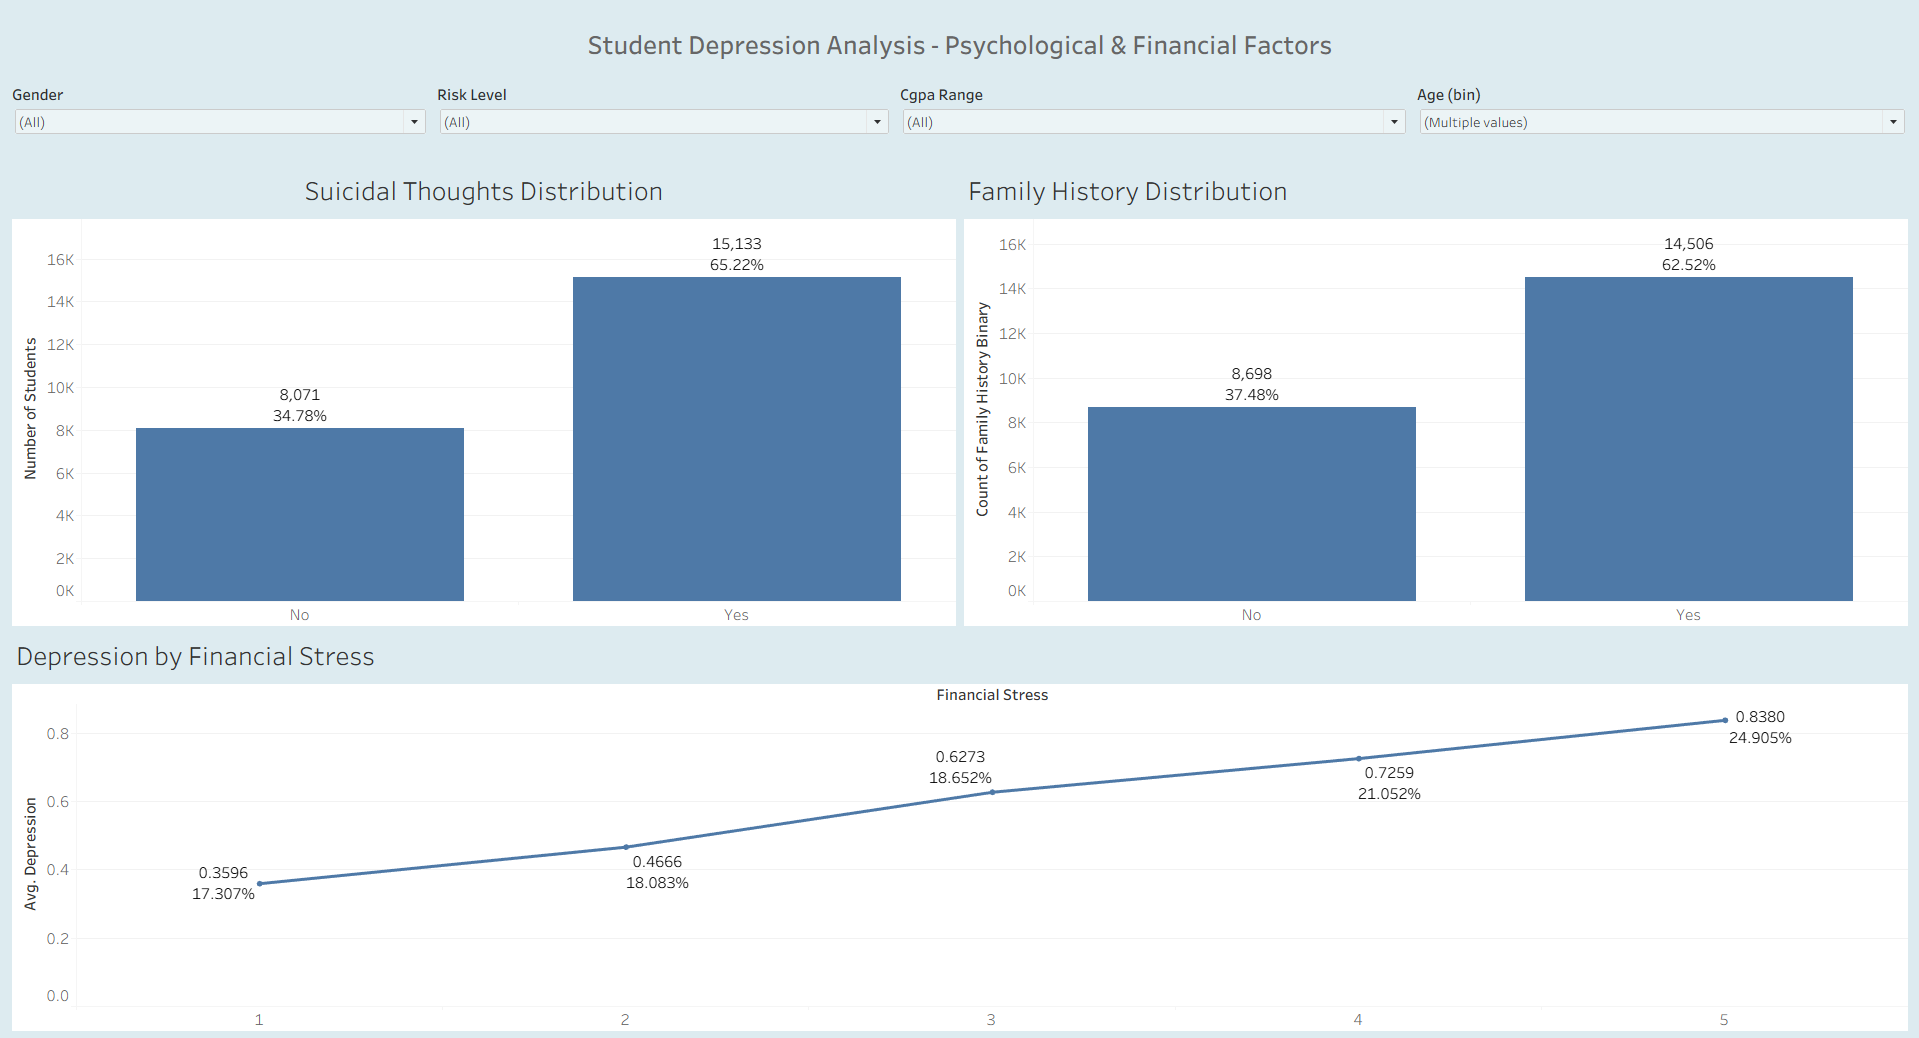

The page's visual inventory and layout, read from the dashboard file:
{"tool":"tableau","page":{"name":"Psychological & Financial Factors","canvas":[1000,1000],"units":"permille","ordinal":2},"visuals":[{"type":"text","box":[4.8,9.4,990.3,68.7]},{"type":"filter","title":"Depression by Financial Stress","param":"[federated.06oz1im1gha7c81ckzce51y9n668].[none:gender:nk]","box":[4.8,78,220.8,81.2]},{"type":"filter","title":"Depression by Financial Stress","param":"[federated.06oz1im1gha7c81ckzce51y9n668].[none:risk_level:nk]","box":[225.7,78,240.8,81.2]},{"type":"filter","title":"Depression by Financial Stress","param":"[federated.06oz1im1gha7c81ckzce51y9n668].[none:cgpa_range:nk]","box":[466.5,78,269.2,81.2]},{"type":"filter","title":"Depression by Financial Stress","param":"[federated.06oz1im1gha7c81ckzce51y9n668].[none:Age (bin):ok]","box":[735.6,78,259.5,81.2]},{"type":"worksheet","title":"Suicidal Thoughts Distribution","mark":"Bar","rows":["student_depression_analysis.csv_83CDBA091C41412094CF9C85B37B"],"cols":["suicidal_thoughts"],"box":[4.8,159.3,495.2,444.6]},{"type":"worksheet","title":"Family History Distribution","mark":"Automatic","rows":["family_history_binary"],"cols":["Calculation_0480808767025155"],"box":[500,159.3,495.2,444.6]},{"type":"worksheet","title":"Depression by Financial Stress","mark":"Line","rows":["depression"],"cols":["financial_stress"],"box":[4.8,603.9,990.3,386.7]}]}

Visuals, with their boxes on the dashboard's canvas, which has no fixed pixel size, in thousandths of its width and height (x1, y1, x2, y2). These are canvas units, not pixel positions in the 1919x1038 screenshot, which may show the page scaled, cropped or inside an application window:
text: [5, 9, 995, 78]
"Depression by Financial Stress" filter: [5, 78, 226, 159]
"Depression by Financial Stress" filter: [226, 78, 466, 159]
"Depression by Financial Stress" filter: [466, 78, 736, 159]
"Depression by Financial Stress" filter: [736, 78, 995, 159]
"Suicidal Thoughts Distribution" worksheet (Bar marks): [5, 159, 500, 604]
"Family History Distribution" worksheet: [500, 159, 995, 604]
"Depression by Financial Stress" worksheet (Line marks): [5, 604, 995, 991]
